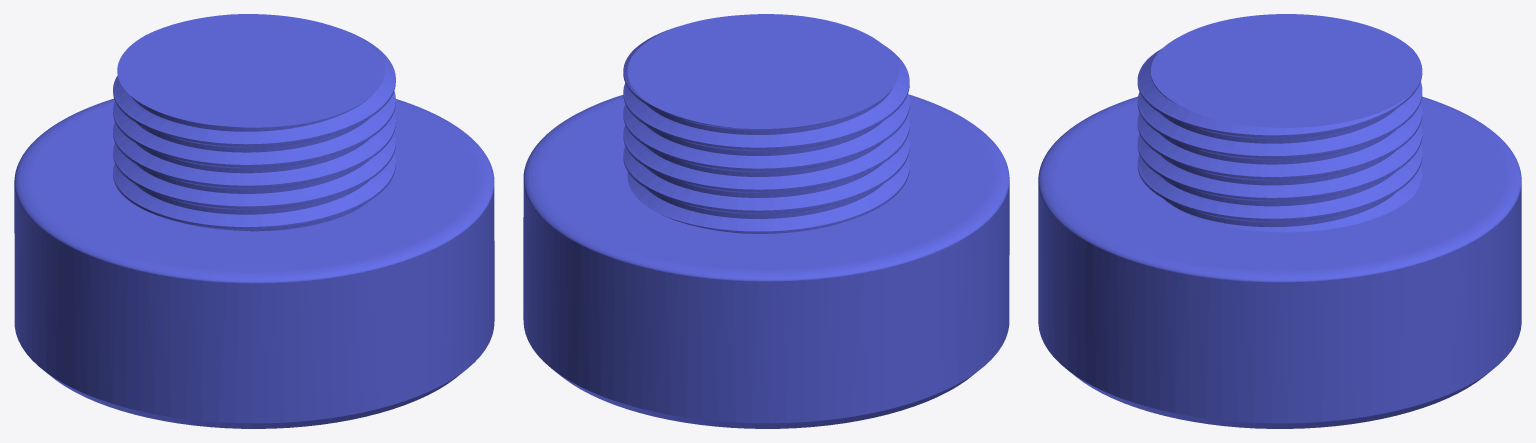
Rendered from socle_blue.glb.
3 views of the same model, side by side, from view 1: azimuth 30°, elevation 25°; view 2: azimuth 150°, elevation 25°; view 3: azimuth 270°, elevation 25° (orthographic).
Visible parts, largest first — view 1: bouteille prototype V3 base; view 2: bouteille prototype V3 base; view 3: bouteille prototype V3 base.
Part boxes in pixels (box(x1,y1,x2,y2)): bouteille prototype V3 base: box(14, 14, 494, 428); bouteille prototype V3 base: box(523, 14, 1009, 428); bouteille prototype V3 base: box(1038, 14, 1521, 428).
Bounding box in the file's own units: 83.5 × 49.7 × 83.49.
